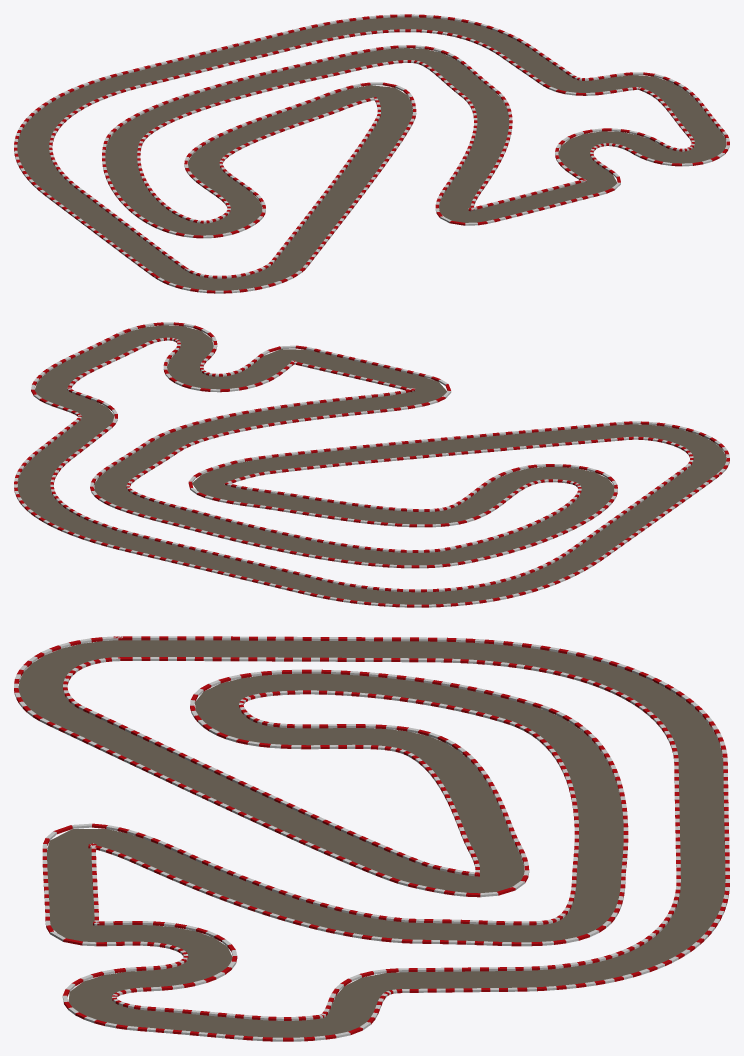
The model's file is track2.fbx.
3 renders of one model, top to bottom at view 1: azimuth 30°, elevation 25°; view 2: azimuth 150°, elevation 25°; view 3: azimuth 270°, elevation 25°, orthographic. The views are drawn at different scales.
Parts seen in each view (by area): view 1: Road.005, Edge.005; view 2: Road.005, Edge.005; view 3: Road.005, Edge.005.
Boxes of the visible parts, <box> form: Road.005: <box>17,17,726,290</box>; Edge.005: <box>14,14,729,293</box>; Road.005: <box>17,325,726,604</box>; Edge.005: <box>14,322,729,607</box>; Road.005: <box>18,640,725,1037</box>; Edge.005: <box>14,636,729,1041</box>.
Bounding box in the file's own units: 32034 × 79.36 × 24027.
